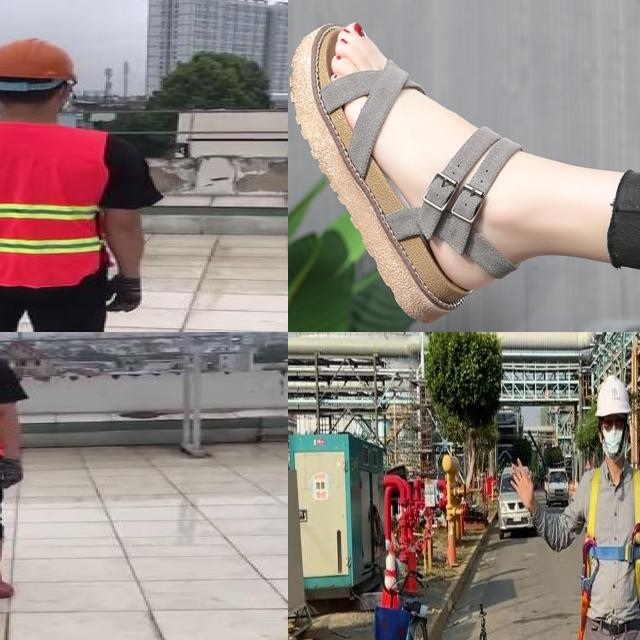Harness: (577, 468, 640, 640)
Sandals: (288, 8, 629, 332)
boots: (0, 540, 18, 600)
hand_glove: (101, 275, 145, 312), (0, 459, 25, 490)
head_helmet: (0, 35, 80, 83)
person: (0, 36, 153, 332)
vest: (0, 121, 106, 287)
